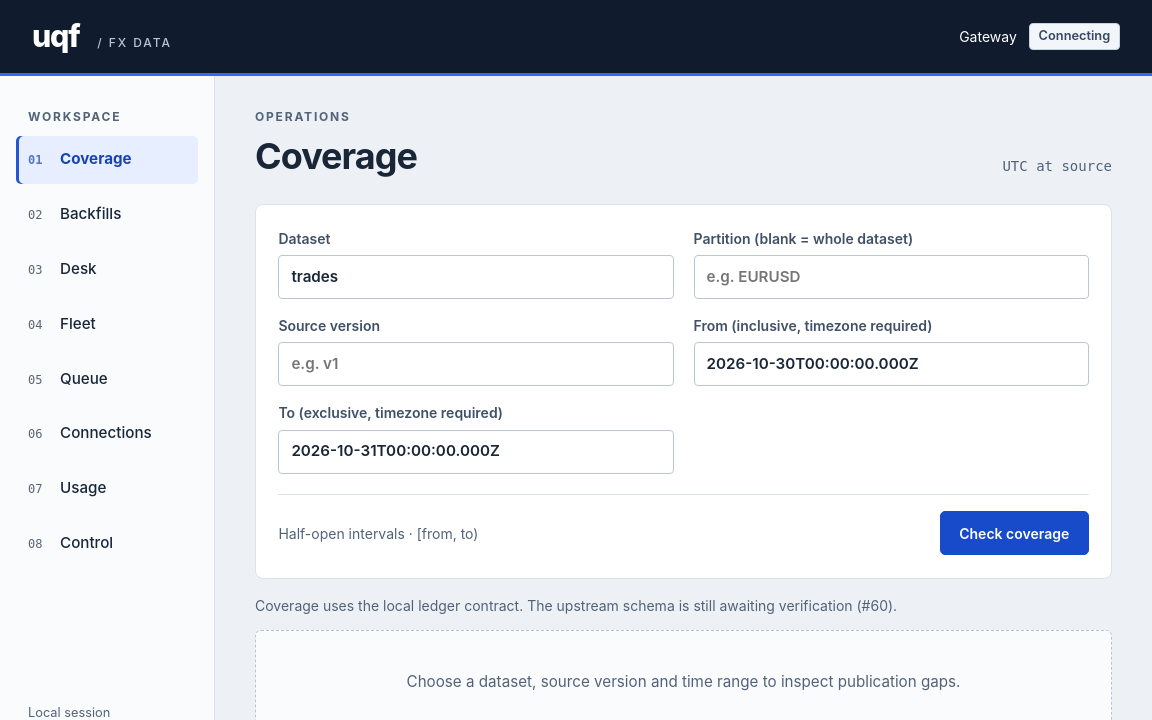
Test: says a run whose process is gone is abandoned, not in progress
The width and height of the screenshot is (1152, 720).
Step 1. Click the button "02 Backfills" → [107, 215], box [16,190,198,239]
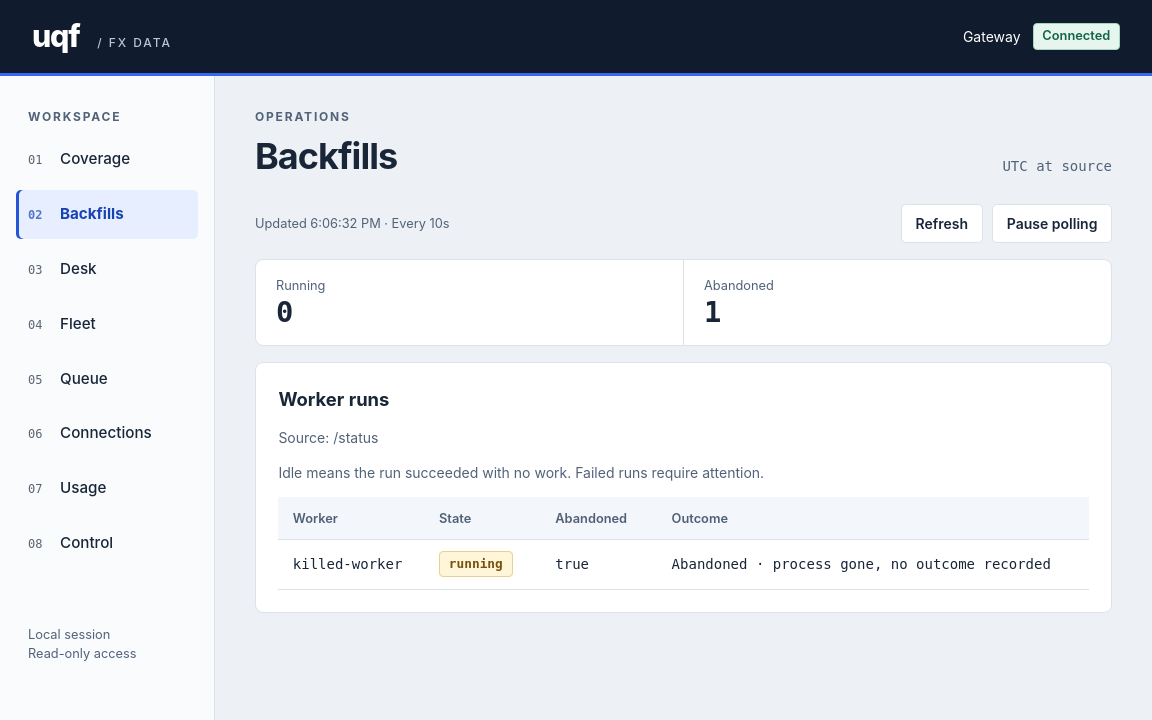
Expected: the text "Abandoned · process gone, no outcome recorded" is shown, [657,539,1089,589]
